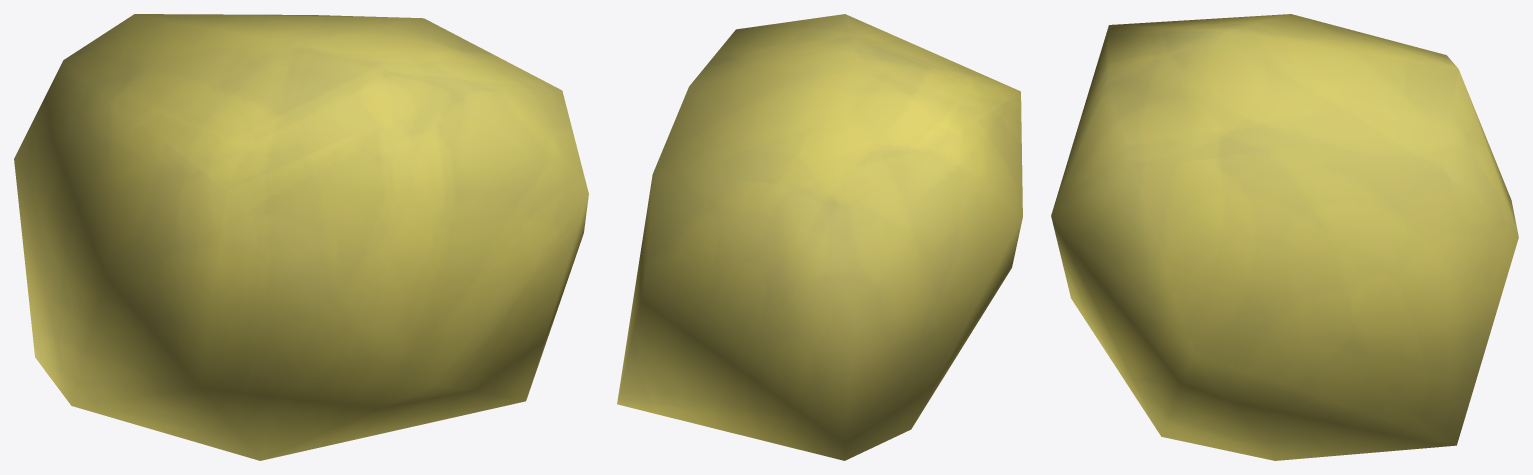
The model's file is Mineral_nugget_gold.fbx.
3 views of the same model, side by side, from view 1: azimuth 30°, elevation 25°; view 2: azimuth 150°, elevation 25°; view 3: azimuth 270°, elevation 25° (orthographic). The views are drawn at different scales.
Parts seen in each view (by area): view 1: Mineral_nugget_gold; view 2: Mineral_nugget_gold; view 3: Mineral_nugget_gold.
Part boxes in pixels (left/top/right/bottom): Mineral_nugget_gold: left=14, top=14, right=588, bottom=460; Mineral_nugget_gold: left=617, top=14, right=1022, bottom=460; Mineral_nugget_gold: left=1051, top=14, right=1518, bottom=460.
Bounding box in the file's own units: 60.81 × 54.01 × 60.88.
